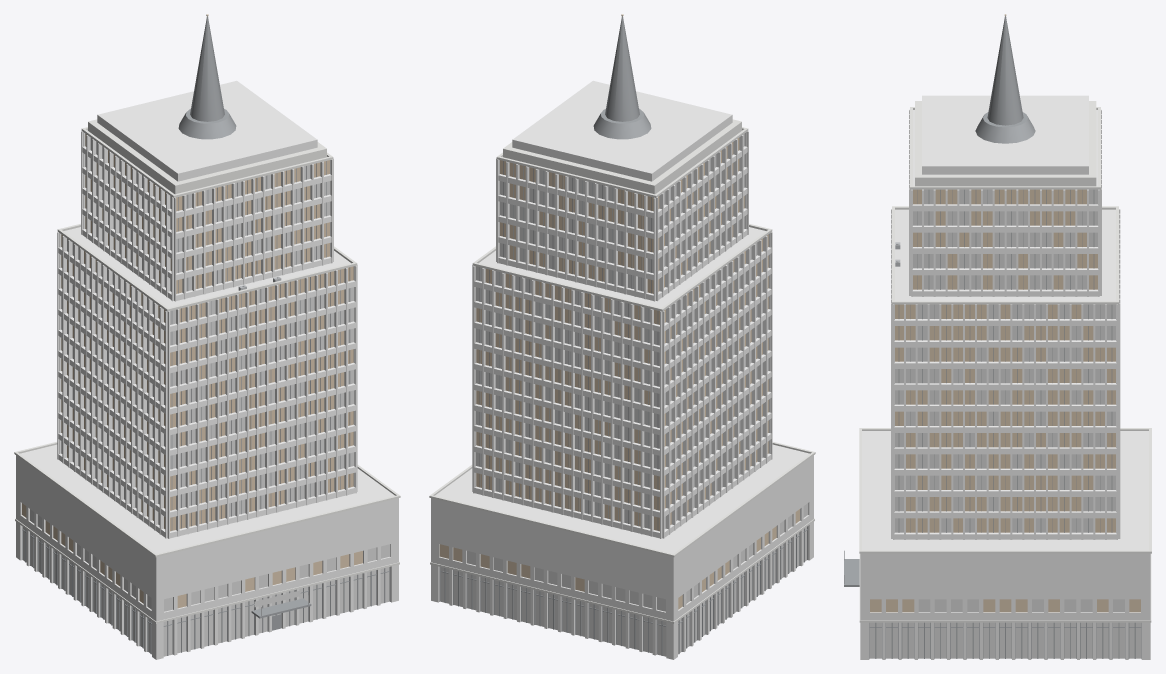
The model's file is tower_hero350.glb.
3 views of the same model, side by side, from view 1: azimuth 30°, elevation 25°; view 2: azimuth 150°, elevation 25°; view 3: azimuth 270°, elevation 25° (orthographic). The views are drawn at different scales.
Visible parts, largest first — view 1: tower_hero350_Walls, tower_hero350_Walls2, tower_hero350_WindowsLit, tower_hero350_Glass, tower_hero350_Frames, tower_hero350_Trim, tower_hero350_Roof, tower_hero350_Accent; view 2: tower_hero350_Walls, tower_hero350_Walls2, tower_hero350_WindowsLit, tower_hero350_Glass, tower_hero350_Frames, tower_hero350_Trim, tower_hero350_Roof, tower_hero350_Accent; view 3: tower_hero350_Walls, tower_hero350_Walls2, tower_hero350_WindowsLit, tower_hero350_Glass, tower_hero350_Roof, tower_hero350_Trim, tower_hero350_Frames, tower_hero350_Accent.
Boxes of the visible parts, bbox=[...] form: tower_hero350_Walls: bbox=[57, 131, 357, 538]; tower_hero350_Walls2: bbox=[16, 80, 398, 659]; tower_hero350_WindowsLit: bbox=[23, 138, 390, 656]; tower_hero350_Glass: bbox=[22, 134, 362, 608]; tower_hero350_Frames: bbox=[22, 161, 390, 655]; tower_hero350_Trim: bbox=[14, 119, 400, 623]; tower_hero350_Roof: bbox=[20, 227, 394, 553]; tower_hero350_Accent: bbox=[178, 16, 311, 618]; tower_hero350_Walls: bbox=[472, 131, 772, 538]; tower_hero350_Walls2: bbox=[431, 80, 813, 659]; tower_hero350_WindowsLit: bbox=[440, 134, 807, 656]; tower_hero350_Glass: bbox=[439, 138, 799, 609]; tower_hero350_Frames: bbox=[439, 161, 807, 655]; tower_hero350_Trim: bbox=[429, 119, 815, 623]; tower_hero350_Roof: bbox=[435, 227, 809, 553]; tower_hero350_Accent: bbox=[593, 16, 651, 139]; tower_hero350_Walls: bbox=[891, 109, 1120, 539]; tower_hero350_Walls2: bbox=[860, 95, 1150, 659]; tower_hero350_WindowsLit: bbox=[869, 189, 1141, 658]; tower_hero350_Glass: bbox=[870, 189, 1140, 612]; tower_hero350_Roof: bbox=[862, 110, 1148, 550]; tower_hero350_Trim: bbox=[859, 101, 1151, 622]; tower_hero350_Frames: bbox=[869, 189, 1141, 658]; tower_hero350_Accent: bbox=[844, 16, 1035, 586].
Bounding box in the file's own units: 161 × 356 × 170.
